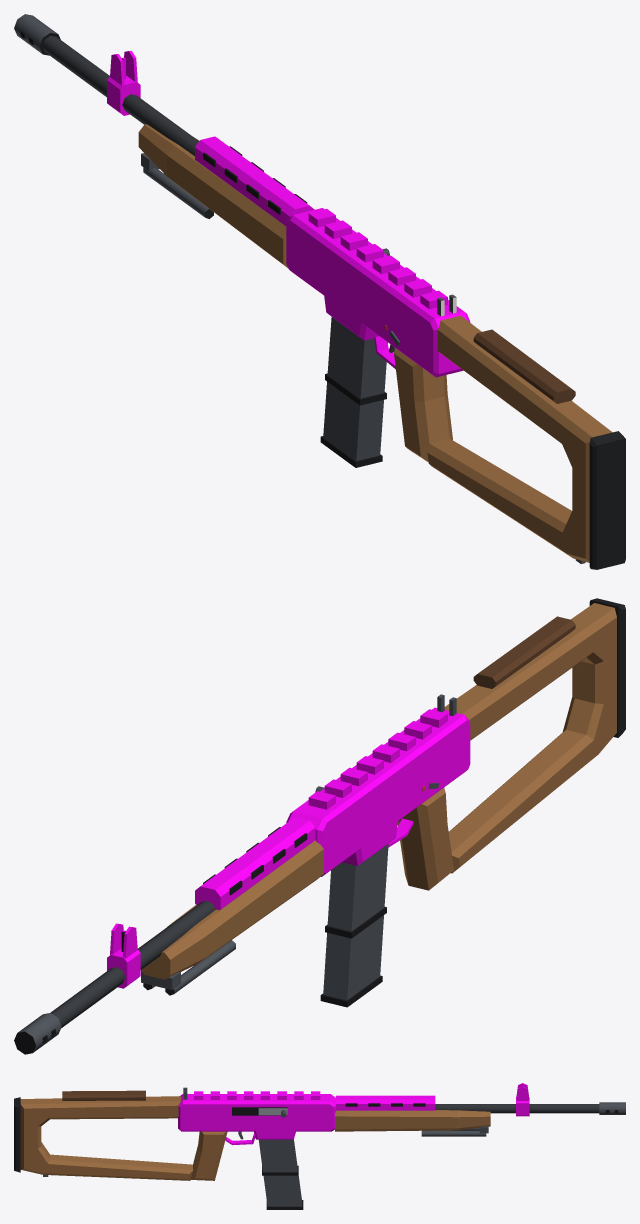
Rendered from rifle_marksman.glb.
The picture shows the model from 3 angles, top to bottom: view 1: azimuth 30°, elevation 25°; view 2: azimuth 150°, elevation 25°; view 3: azimuth 270°, elevation 25°; orthographic projection. The views are drawn at different scales.
Visible parts, largest first — view 1: rifle_marksman__body, rifle_marksman__mag_ext, rifle_marksman__mag; view 2: rifle_marksman__body, rifle_marksman__mag_ext, rifle_marksman__mag; view 3: rifle_marksman__body, rifle_marksman__mag_ext, rifle_marksman__mag, rifle_marksman__bolt.
Boxes of the visible parts, x1,y1,x2,y2 form: rifle_marksman__body: (14,14,625,569); rifle_marksman__mag_ext: (320,318,386,467); rifle_marksman__mag: (325,317,386,405); rifle_marksman__body: (14,598,625,1054); rifle_marksman__mag_ext: (320,844,388,1007); rifle_marksman__mag: (325,844,388,938); rifle_marksman__body: (14,1083,625,1180); rifle_marksman__mag_ext: (259,1139,303,1209); rifle_marksman__mag: (258,1139,298,1175); rifle_marksman__bolt: (258,1108,287,1117).
Bounding box in the file's own units: 0.06 × 0.241 × 1.1.
1 material, 1 textured.
